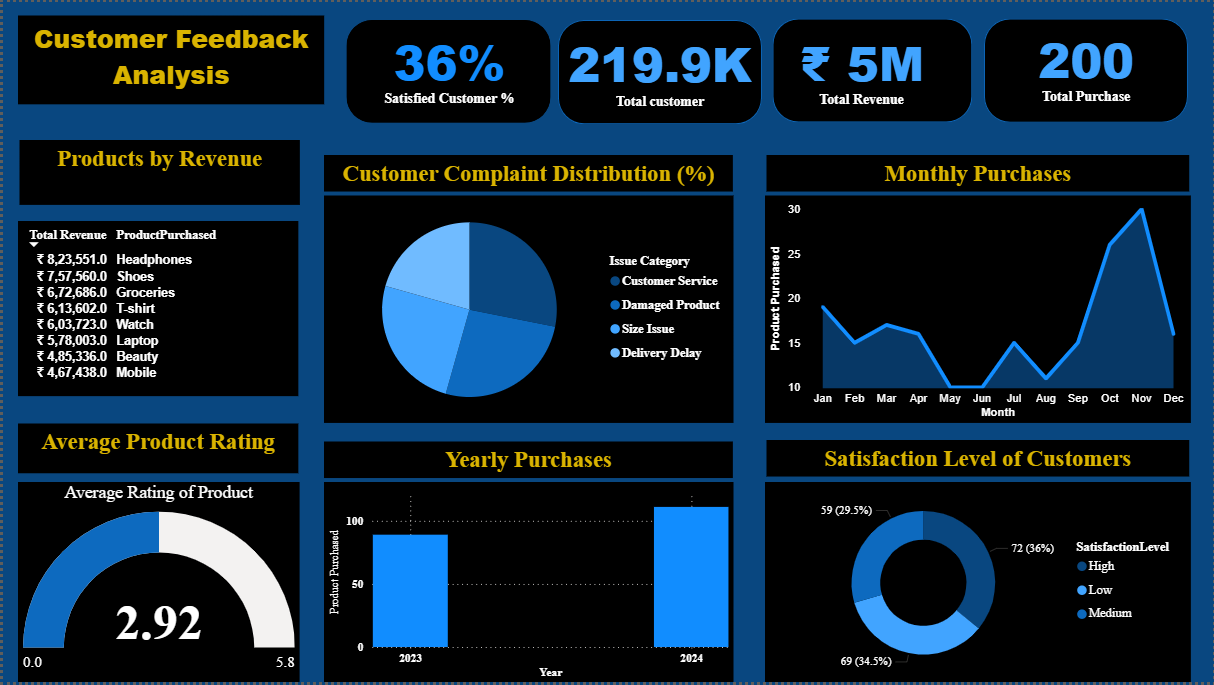

The page's visual inventory and layout, read from the dashboard file:
{"tool":"powerbi","page":{"name":"Customer_Analysis","canvas":[1280,720],"ordinal":0},"visuals":[{"type":"lineChart","title":"Monthly Purchase ","fields":{"Category":["Customer_data.Month Name"],"Y":["CountNonNull(Customer_data.ProductPurchased)"]},"box":[806.4,204.8,450.5,241],"z":0},{"type":"pieChart","fields":{"Category":["Customer_data.IssueCategory"],"Y":["Customer_data.Total Issues"]},"box":[340.2,204.8,433.1,241],"z":1000},{"type":"shape","box":[587.5,18.9,215.8,110.3],"z":2000,"group":"g1"},{"type":"tableEx","title":"Product based on Revenue","fields":{"Values":["Customer_data.Total Revenue","Customer_data.ProductPurchased"]},"box":[16.4,231.1,296.7,185.2],"z":2000},{"type":"columnChart","title":"Yearly Purchase","fields":{"Y":["CountNonNull(Customer_data.ProductPurchased)"],"Category":["Customer_data.DateOfPurchase.Variation.Date Hierarchy.Year"]},"box":[340.2,507.2,433.1,212.6],"z":3000},{"type":"gauge","title":"Average Rating of Product","fields":{"Y":["Customer_data.Average Rating of Product's"]},"box":[15.8,507.2,297.7,212.6],"z":4000},{"type":"donutChart","fields":{"Category":["Customer_data.SatisfactionLevel"],"Y":["CountNonNull(Customer_data.CustomerID)"]},"box":[806.4,507.2,450.5,212.6],"z":5000},{"type":"shape","box":[362.9,18.7,215.8,108.7],"z":6500,"group":"g4"},{"type":"group","id":"g1","title":"Group 1","box":[587.5,14.2,215.8,115],"z":7000,"group":"g5"},{"type":"textbox","box":[15.7,14.3,324.3,94.3],"z":7000},{"type":"group","id":"g2","title":"Group 3","box":[812.4,2.9,213.5,134.3],"z":8000,"group":"g5"},{"type":"textbox","box":[340,161.4,432.9,38.6],"z":8000},{"type":"group","id":"g3","title":"Group 4","box":[1037.9,11.1,215.8,116.6],"z":9000,"group":"g5"},{"type":"textbox","box":[18,145.9,296.7,68.9],"z":9000},{"type":"shape","box":[814.5,17,211.4,110],"z":10000,"group":"g2"},{"type":"textbox","box":[16.4,445.9,296.7,52.5],"z":10000},{"type":"shape","box":[1037.9,17.4,215.8,110.3],"z":11000,"group":"g3"},{"type":"textbox","box":[807.1,161.4,447.1,38.6],"z":11000},{"type":"card","title":"Total Customer","fields":{"Values":["Customer_data.total customer"]},"box":[587.5,14.2,215.8,115],"z":12000,"group":"g1"},{"type":"textbox","box":[807.1,462.9,447.1,38.6],"z":12000},{"type":"card","title":"Total Revenue","fields":{"Values":["Customer_data.Total Revenue"]},"box":[812.4,2.9,191.4,134.3],"z":12501,"group":"g2"},{"type":"textbox","box":[340,464.3,432.9,38.6],"z":13000},{"type":"card","title":"Average rating","fields":{"Values":["Customer_data.Total Purchase"]},"box":[1058.4,11.1,174.8,111.8],"z":13002,"group":"g3"},{"type":"card","fields":{"Values":["Customer_data.Satisfied Customer %"]},"box":[382.9,22.9,175.7,90],"z":13501,"group":"g4"},{"type":"group","id":"g4","title":"Group 2","box":[362.9,18.7,215.8,108.7],"z":13502,"group":"g5"},{"type":"group","id":"g5","title":"Group 5","box":[362.9,2.9,890.8,134.3],"z":13503}]}

Visuals, with their boxes in screenshot pixels (x1, y1, x2, y2), scaled from the page's 1280x720 canvas onto the 1214x685 screenshot:
"Monthly Purchase " lineChart: detection(765, 195, 1192, 424)
pieChart - Customer_data.IssueCategory x Customer_data.Total Issues: detection(323, 195, 733, 424)
shape: detection(557, 18, 762, 123)
"Product based on Revenue" tableEx: detection(16, 220, 297, 396)
"Yearly Purchase" columnChart: detection(323, 483, 733, 684)
"Average Rating of Product" gauge: detection(15, 483, 297, 684)
donutChart - Customer_data.SatisfactionLevel x CountNonNull(Customer_data.CustomerID): detection(765, 483, 1192, 684)
shape: detection(344, 18, 549, 121)
"Group 1" group: detection(557, 14, 762, 123)
textbox: detection(15, 14, 322, 103)
"Group 3" group: detection(771, 3, 973, 131)
textbox: detection(322, 154, 733, 190)
"Group 4" group: detection(984, 11, 1189, 121)
textbox: detection(17, 139, 298, 204)
shape: detection(773, 16, 973, 121)
textbox: detection(16, 424, 297, 474)
shape: detection(984, 17, 1189, 121)
textbox: detection(765, 154, 1190, 190)
"Total Customer" card: detection(557, 14, 762, 123)
textbox: detection(765, 440, 1190, 477)
"Total Revenue" card: detection(771, 3, 952, 131)
textbox: detection(322, 442, 733, 478)
"Average rating" card: detection(1004, 11, 1170, 117)
card - Customer_data.Satisfied Customer %: detection(363, 22, 530, 107)
"Group 2" group: detection(344, 18, 549, 121)
"Group 5" group: detection(344, 3, 1189, 131)
